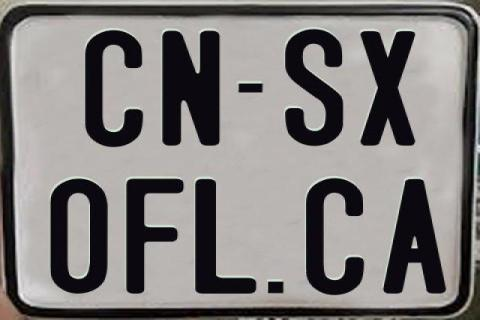0: (50, 177, 109, 295)
A: (380, 177, 446, 293)
C: (82, 28, 146, 146), (304, 179, 365, 297)
F: (125, 177, 185, 293)
L: (194, 178, 256, 298)
N: (162, 31, 226, 147)
S: (283, 27, 345, 147)
X: (360, 30, 415, 146)
